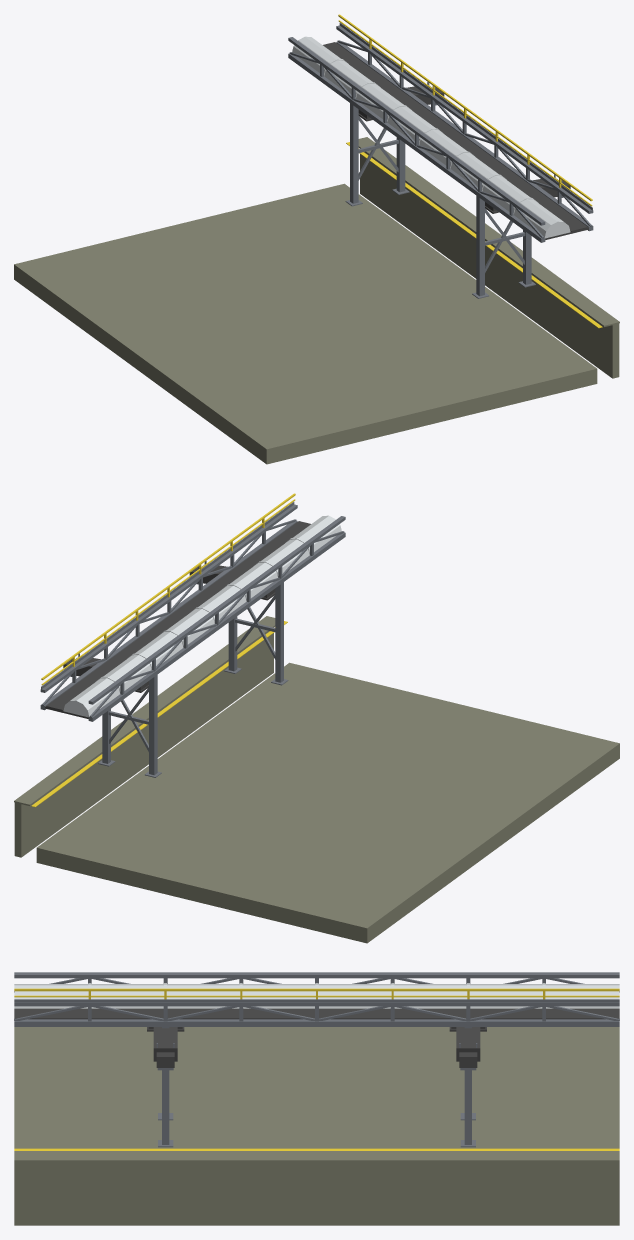
File: platform_close.fbx
The picture shows the model from 3 angles, top to bottom: view 1: azimuth 30°, elevation 25°; view 2: azimuth 150°, elevation 25°; view 3: azimuth 270°, elevation 25°; orthographic projection. The views are drawn at different scales.
Parts seen in each view (by area): view 1: p464_platform_close; view 2: p464_platform_close; view 3: p464_platform_close.
Boxes of the visible parts, x1,y1,x2,y2 form: p464_platform_close: (14,14,619,464); p464_platform_close: (14,493,619,943); p464_platform_close: (14,972,619,1225).
Bounding box in the file's own units: 13.28 × 6.48 × 16.01.
